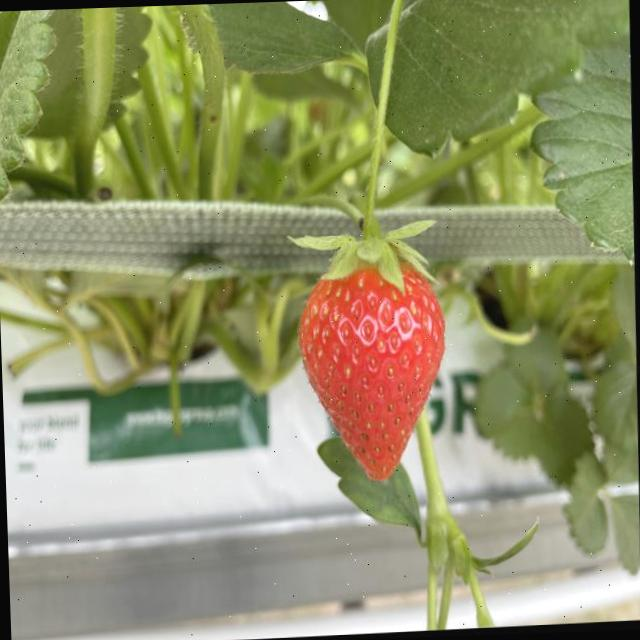stem: (292, 0, 433, 291)
strawberryR: (298, 263, 444, 480)
